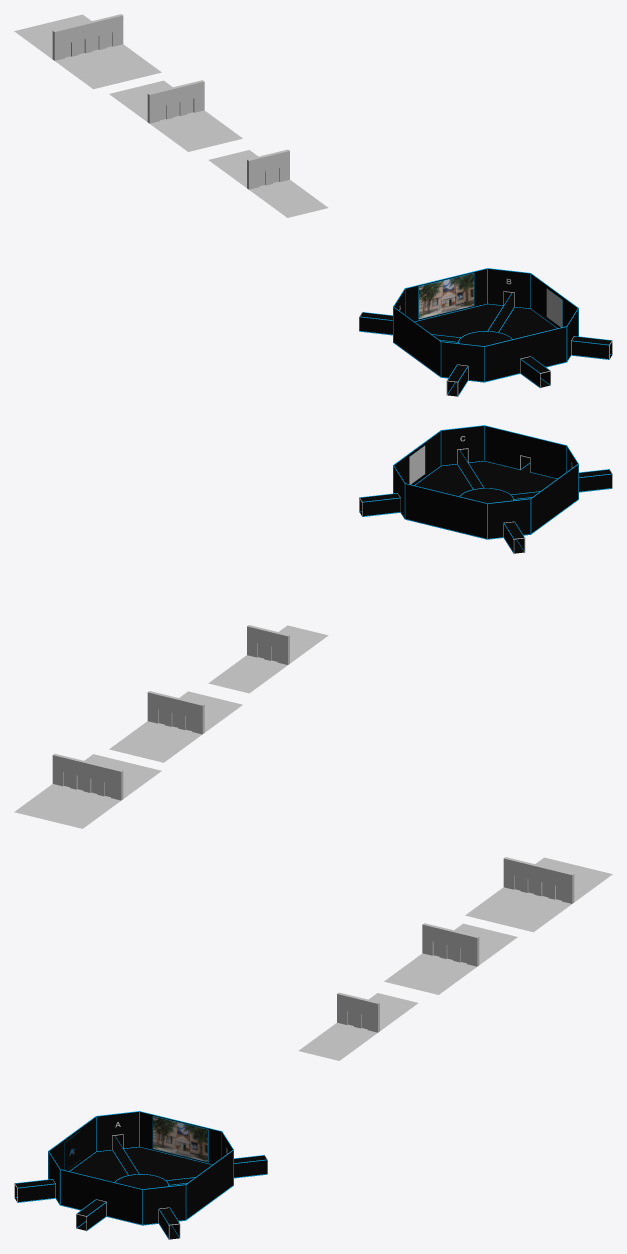
The model's file is TextExpo.obj.
The picture shows the model from 3 angles, top to bottom: view 1: azimuth 30°, elevation 25°; view 2: azimuth 150°, elevation 25°; view 3: azimuth 330°, elevation 25°; orthographic projection.
Parts seen in each view (by area): view 1: Cylinder.048; view 2: Cylinder.048; view 3: Cylinder.048.
Part boxes in pixels (x1,y1,x2,y2): Cylinder.048: (14, 14, 612, 396); Cylinder.048: (14, 425, 612, 828); Cylinder.048: (14, 857, 612, 1239).
Bounding box in the file's own units: 24.27 × 5.05 × 125.
